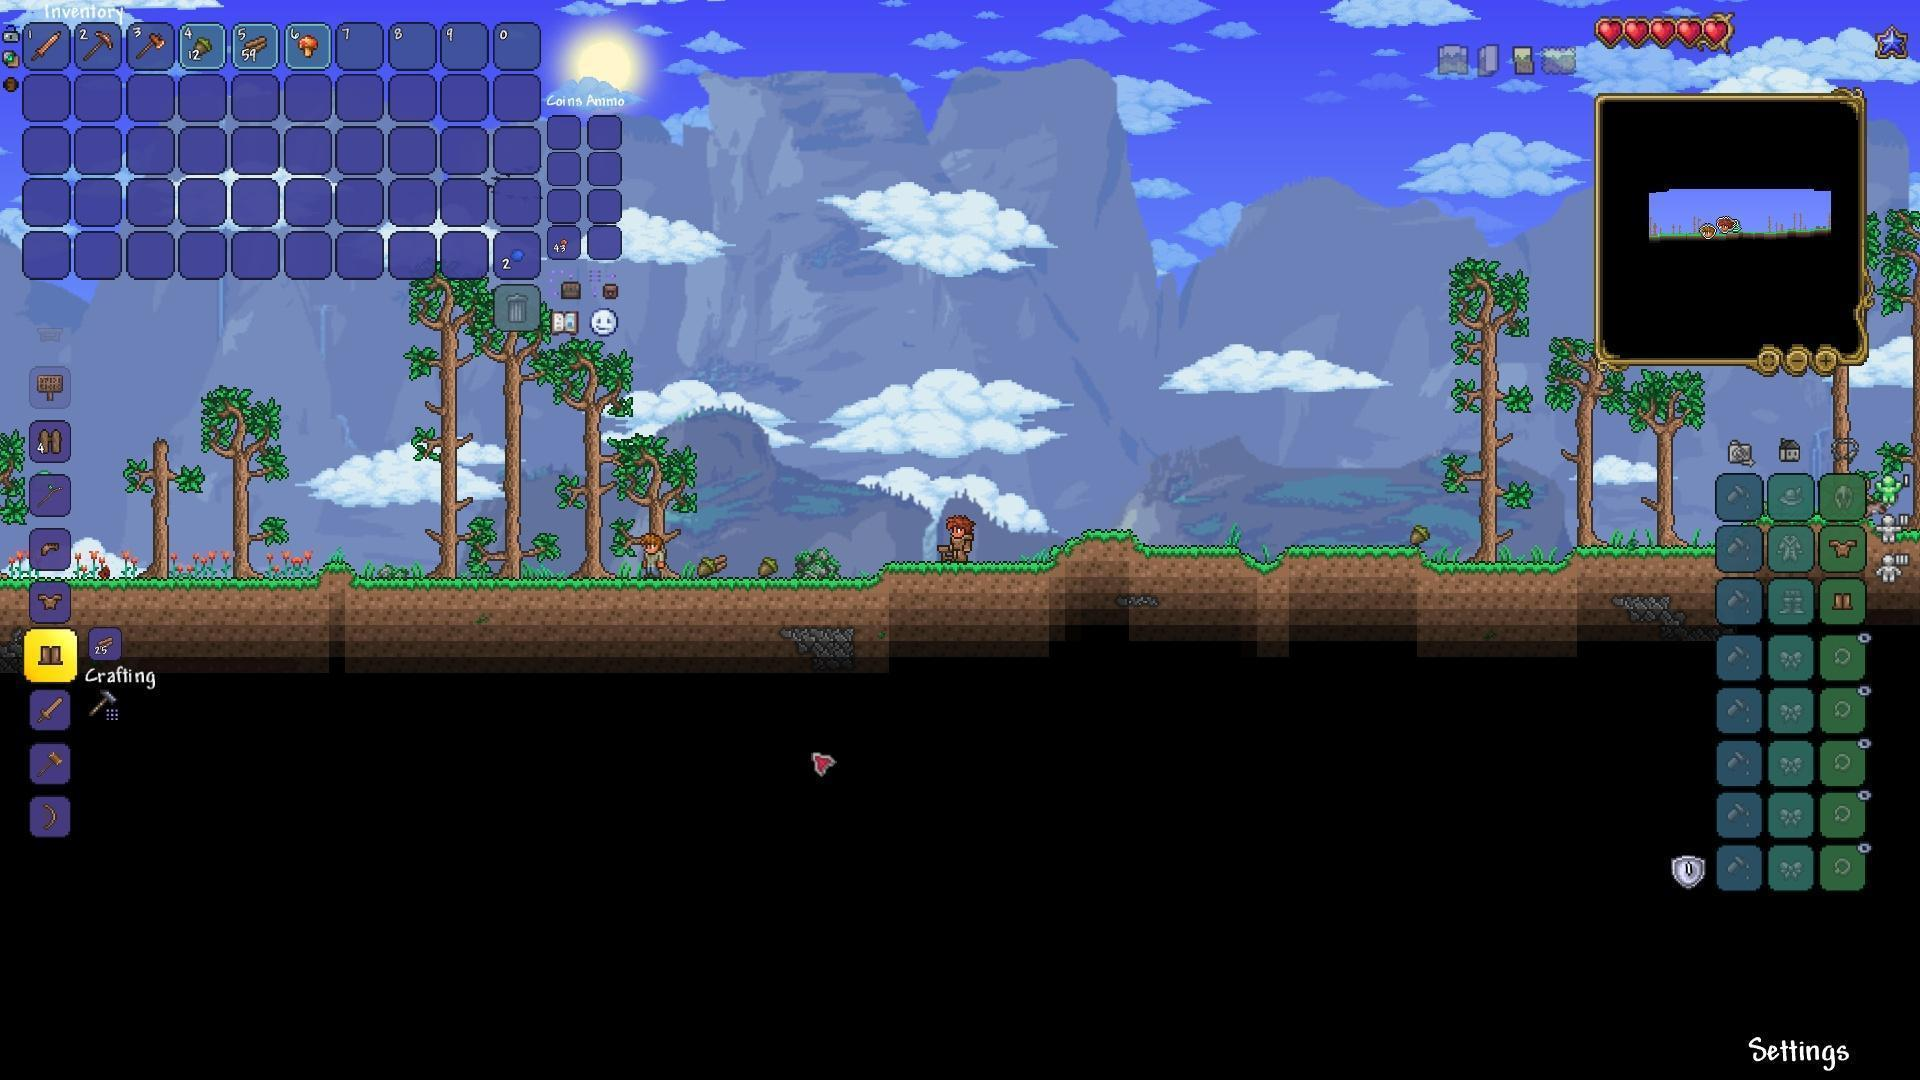breastplate: (1829, 537, 1859, 559), (34, 592, 65, 613)
helmet: (36, 535, 66, 563)
legs: (36, 644, 66, 673), (1832, 588, 1855, 616)
wood: (90, 630, 121, 661), (239, 29, 270, 59), (707, 551, 728, 579)
